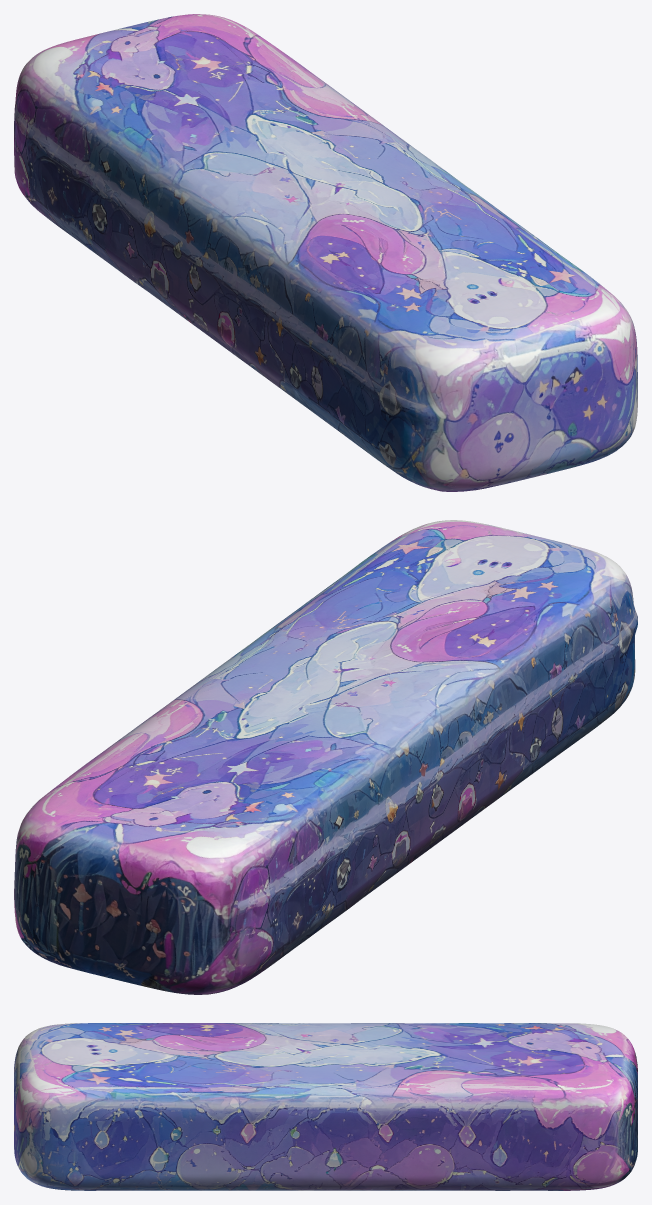
Rendered from PastelGhostBar.fbx.
3 views of the same model, one above another, from view 1: azimuth 30°, elevation 25°; view 2: azimuth 150°, elevation 25°; view 3: azimuth 270°, elevation 25° (orthographic). The views are drawn at different scales.
Visible parts, largest first — view 1: texture_mapping; view 2: texture_mapping; view 3: texture_mapping.
Part boxes in pixels (x1=…): texture_mapping: x1=14, y1=14, x2=637, y2=491; texture_mapping: x1=14, y1=520, x2=637, y2=994; texture_mapping: x1=14, y1=1023, x2=637, y2=1190.
Bounding box in the file's own units: 0.3185 × 0.9996 × 0.1967.
Materials: 1 (1 with a texture image).
